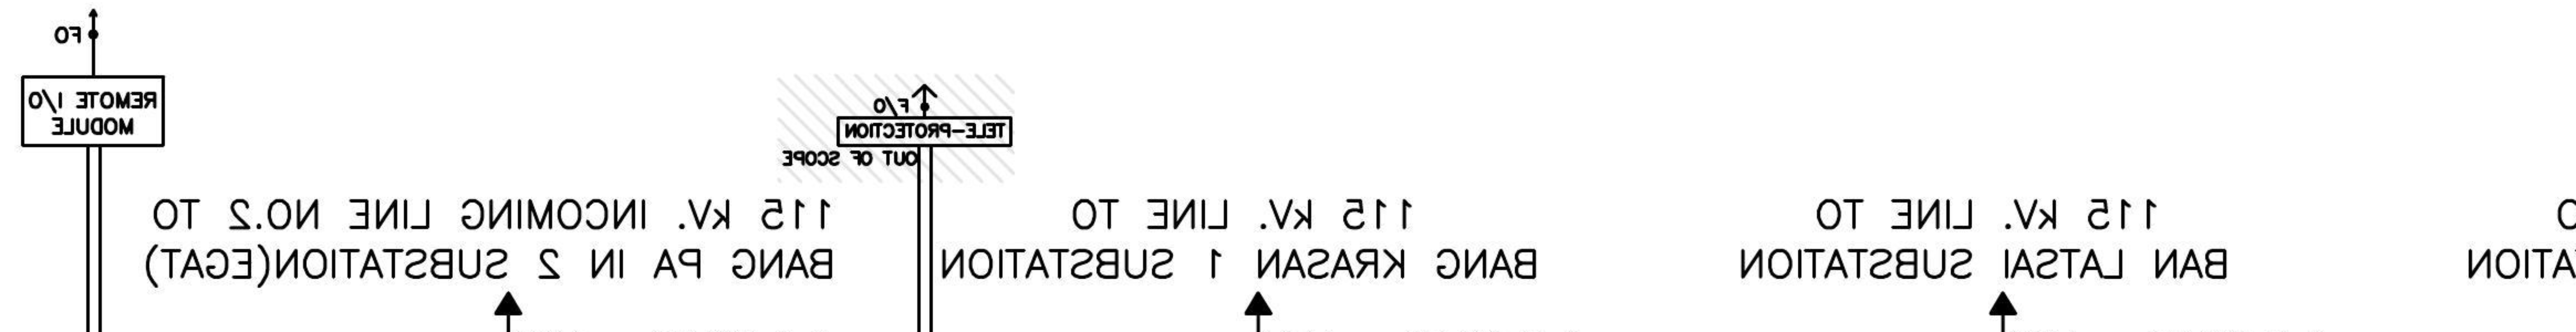remote_io_module: (21, 76, 166, 148)
tele_protection: (836, 115, 1014, 148)
